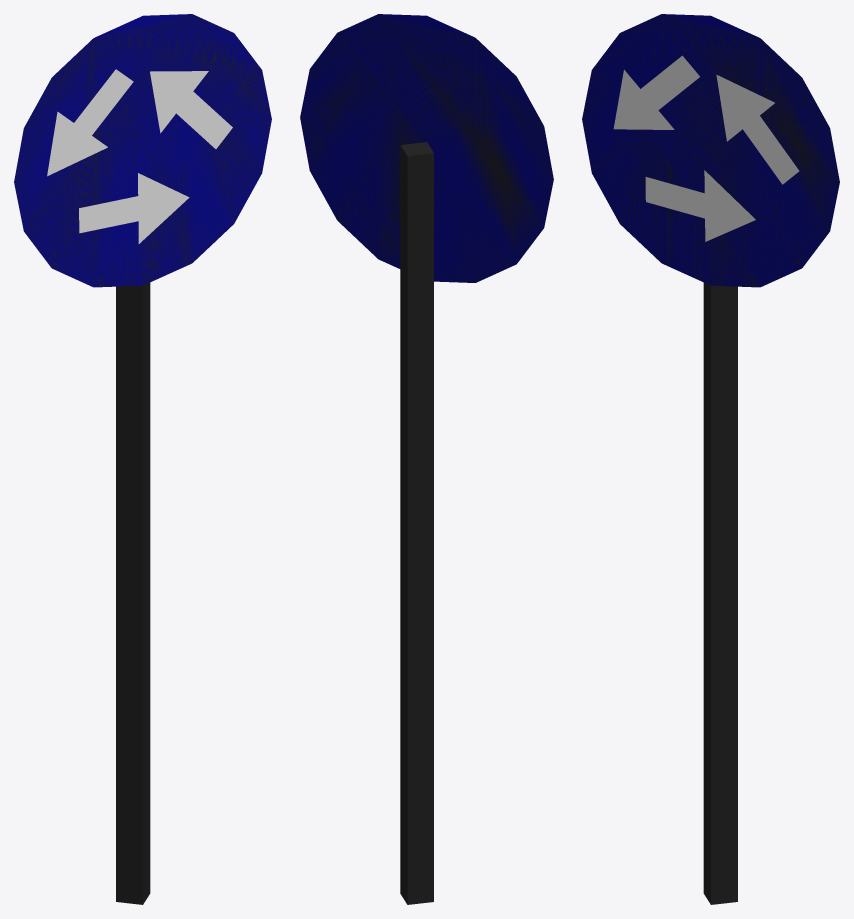
The model's file is roundabout.obj.
3 views of the same model, side by side, from view 1: azimuth 30°, elevation 25°; view 2: azimuth 150°, elevation 25°; view 3: azimuth 330°, elevation 25° (orthographic).
Visible parts, largest first — view 1: Cylinder.003; view 2: Cylinder.003; view 3: Cylinder.003.
Boxes of the visible parts, bbox=[...] form: Cylinder.003: bbox=[14, 14, 271, 904]; Cylinder.003: bbox=[300, 14, 553, 904]; Cylinder.003: bbox=[582, 14, 839, 904].
Bounding box in the file's own units: 0.8957 × 2.95 × 0.1234.
